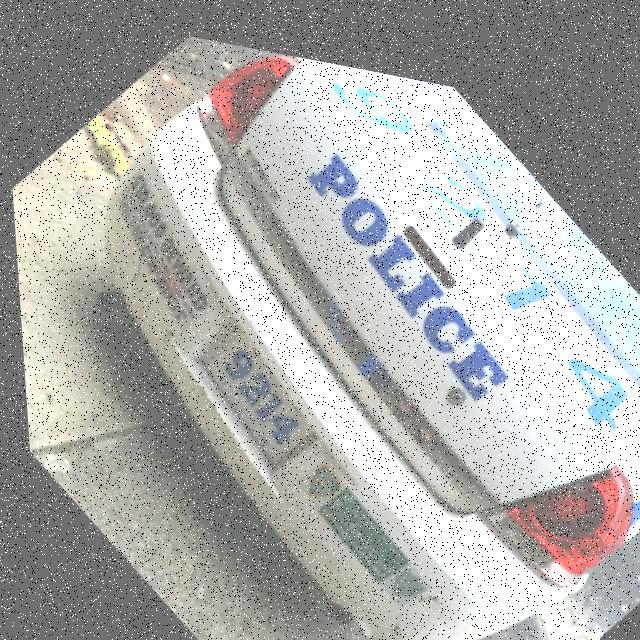license_plate: (178, 312, 322, 471)
